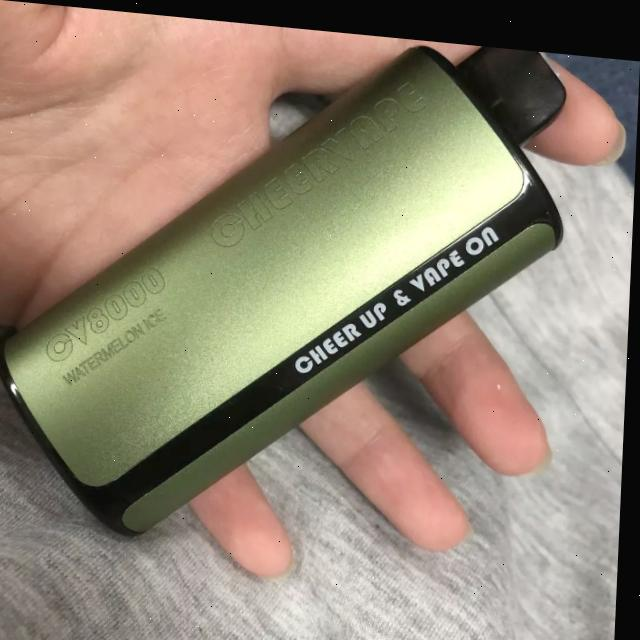vape: (0, 1, 573, 567)
